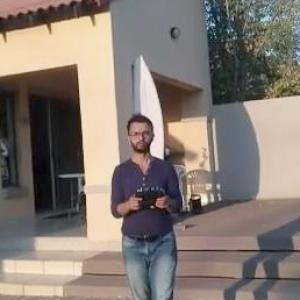follow: (104, 104, 187, 298)
